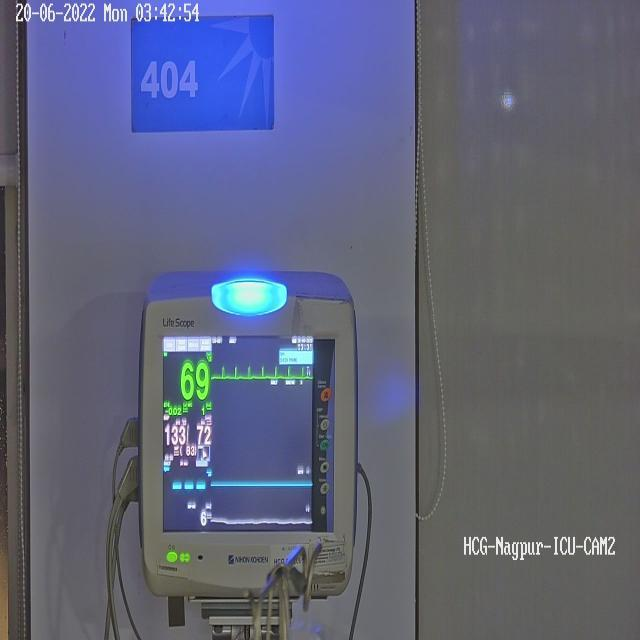Monitor: (136, 268, 360, 602)
